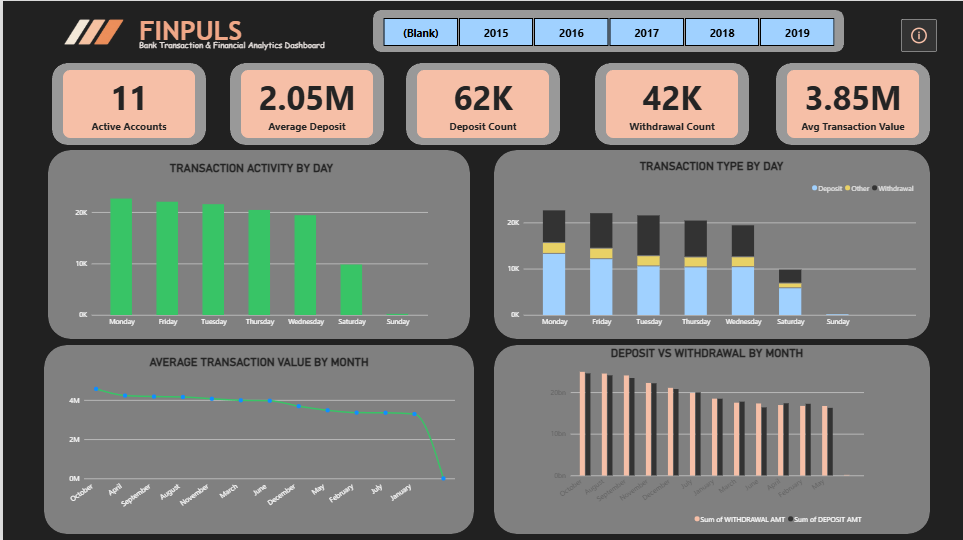

This screenshot's page, from the dashboard's own definition file:
{"tool":"powerbi","page":{"name":"Page 2","canvas":[1920,1080],"ordinal":1},"visuals":[{"type":"shape","box":[740,18,942,84],"z":0},{"type":"shape","box":[982,298,872,378],"z":1},{"type":"shape","box":[82,688,860,378],"z":2},{"type":"shape","box":[90,298,844,378],"z":3},{"type":"shape","box":[982,688,872,378],"z":4},{"type":"shape","box":[1546,124,308,164],"z":5},{"type":"shape","box":[1184,124,308,164],"z":6},{"type":"shape","box":[806,124,308,164],"z":7},{"type":"shape","box":[454,124,308,164],"z":8},{"type":"shape","box":[98,124,308,164],"z":9},{"type":"textbox","box":[272,28,214,96],"z":10},{"type":"textbox","box":[272,76,762.9,51.4],"z":11},{"type":"image","box":[58,0,246,124],"z":12},{"type":"cardVisual","fields":{"Data":["FinPulse_PowerBI.Active Accounts"]},"box":[120,138,264,136],"z":13},{"type":"cardVisual","fields":{"Data":["FinPulse_PowerBI.Average Deposit"]},"box":[476,138,264,136],"z":14},{"type":"cardVisual","fields":{"Data":["FinPulse_PowerBI.Deposit Count"]},"box":[828,138,264,136],"z":15},{"type":"cardVisual","fields":{"Data":["FinPulse_PowerBI.Withdrawal Count"]},"box":[1206,138,264,136],"z":16},{"type":"cardVisual","fields":{"Data":["FinPulse_PowerBI.Avg Transaction Value"]},"box":[1568,138,264,136],"z":17},{"type":"clusteredColumnChart","title":"TRANSACTION ACTIVITY BY DAY","fields":{"Category":["FinPulse_PowerBI.DAY NAME"],"Y":["CountNonNull(FinPulse_PowerBI.Account No)"]},"box":[144,320,706,336],"z":18},{"type":"columnChart","title":"TRANSACTION TYPE BY DAY","fields":{"Category":["FinPulse_PowerBI.DAY NAME"],"Series":["FinPulse_PowerBI.TRANSACTION TYPE"],"Y":["FinPulse_PowerBI.Total Transactions"]},"box":[1008,316,818,340],"z":19},{"type":"lineChart","title":"AVERAGE TRANSACTION VALUE BY MONTH","fields":{"Category":["FinPulse_PowerBI.MONTH NAME"],"Y":["FinPulse_PowerBI.Avg Transaction Value"]},"box":[120,708,784,322],"z":20},{"type":"clusteredColumnChart","title":"DEPOSIT VS WITHDRAWAL BY MONTH","fields":{"Category":["FinPulse_PowerBI.MONTH NAME"],"Y":["Sum(FinPulse_PowerBI.WITHDRAWAL AMT)","Sum(FinPulse_PowerBI.DEPOSIT AMT)"]},"box":[1094,690,628,360],"z":21},{"type":"slicer","fields":{"Values":["FinPulse_PowerBI.YEAR"]},"box":[740,32,942,60],"z":22},{"type":"actionButton","box":[1796,36,72,66],"z":23}]}

Visuals, with their boxes in screenshot pixels (x1, y1, x2, y2), scaled from the page's 1920x1080 canvas onto the 963x540 screenshot:
shape: bbox=[371, 9, 844, 51]
shape: bbox=[493, 149, 930, 338]
shape: bbox=[41, 344, 472, 533]
shape: bbox=[45, 149, 468, 338]
shape: bbox=[493, 344, 930, 533]
shape: bbox=[775, 62, 930, 144]
shape: bbox=[594, 62, 748, 144]
shape: bbox=[404, 62, 559, 144]
shape: bbox=[228, 62, 382, 144]
shape: bbox=[49, 62, 204, 144]
textbox: bbox=[136, 14, 244, 62]
textbox: bbox=[136, 38, 519, 64]
image: bbox=[29, 0, 152, 62]
cardVisual - FinPulse_PowerBI.Active Accounts: bbox=[60, 69, 193, 137]
cardVisual - FinPulse_PowerBI.Average Deposit: bbox=[239, 69, 371, 137]
cardVisual - FinPulse_PowerBI.Deposit Count: bbox=[415, 69, 548, 137]
cardVisual - FinPulse_PowerBI.Withdrawal Count: bbox=[605, 69, 737, 137]
cardVisual - FinPulse_PowerBI.Avg Transaction Value: bbox=[786, 69, 919, 137]
"TRANSACTION ACTIVITY BY DAY" clusteredColumnChart: bbox=[72, 160, 426, 328]
"TRANSACTION TYPE BY DAY" columnChart: bbox=[506, 158, 916, 328]
"AVERAGE TRANSACTION VALUE BY MONTH" lineChart: bbox=[60, 354, 453, 515]
"DEPOSIT VS WITHDRAWAL BY MONTH" clusteredColumnChart: bbox=[549, 345, 864, 525]
slicer - FinPulse_PowerBI.YEAR: bbox=[371, 16, 844, 46]
actionButton: bbox=[901, 18, 937, 51]
